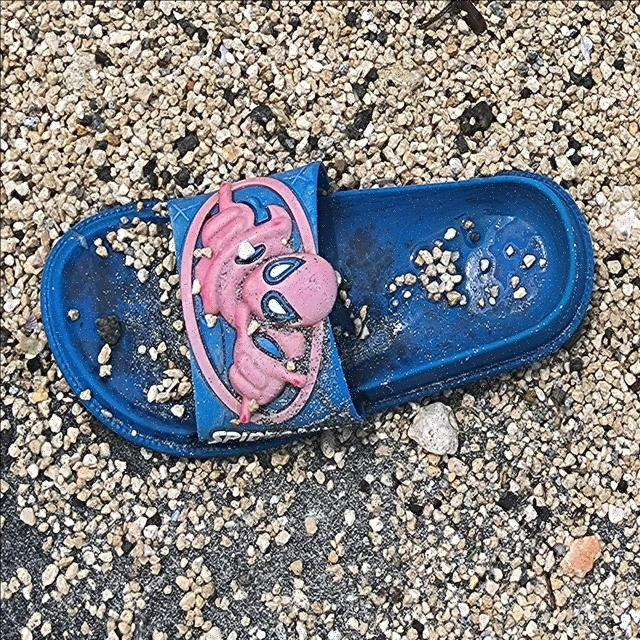rubber_waste: (39, 158, 598, 462)
